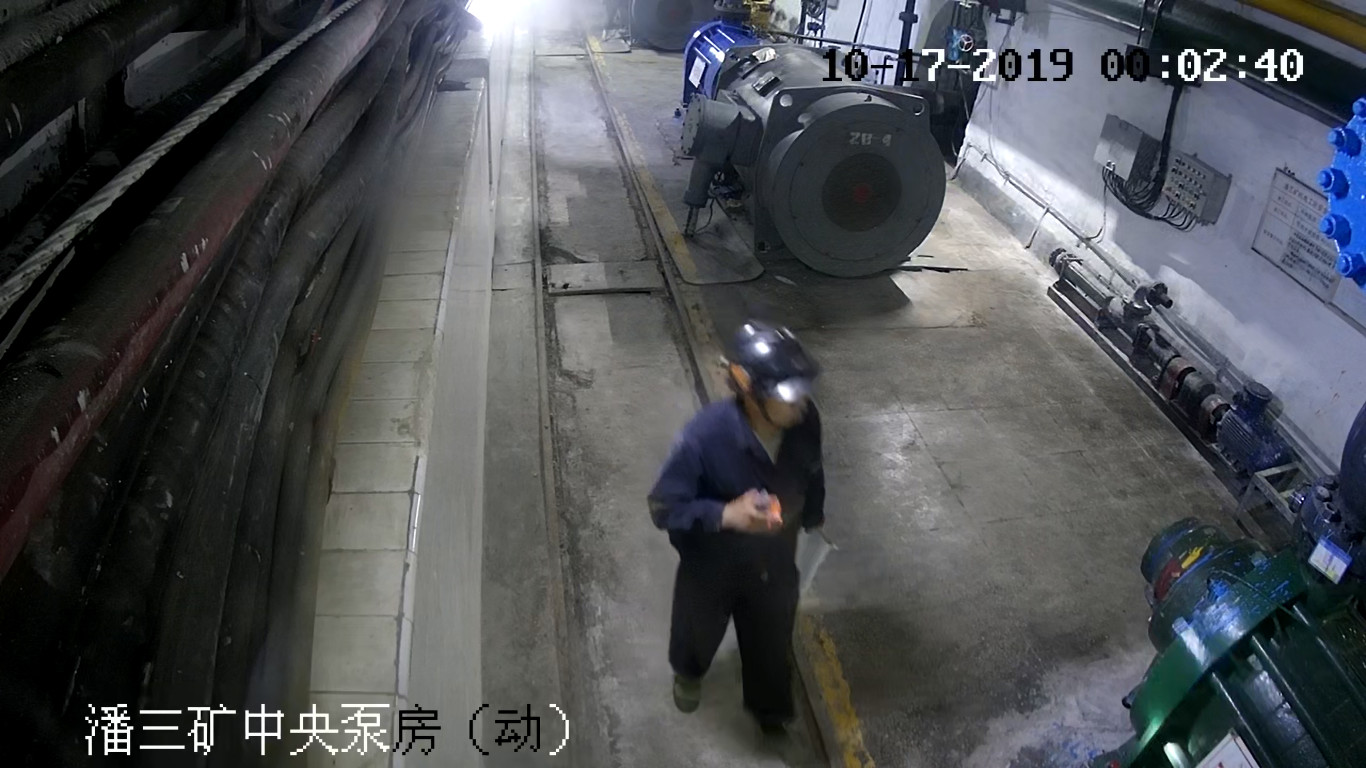helmet: (729, 317, 819, 402)
